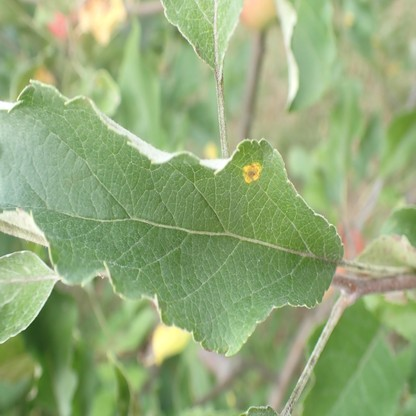rust: (241, 164, 261, 182)
